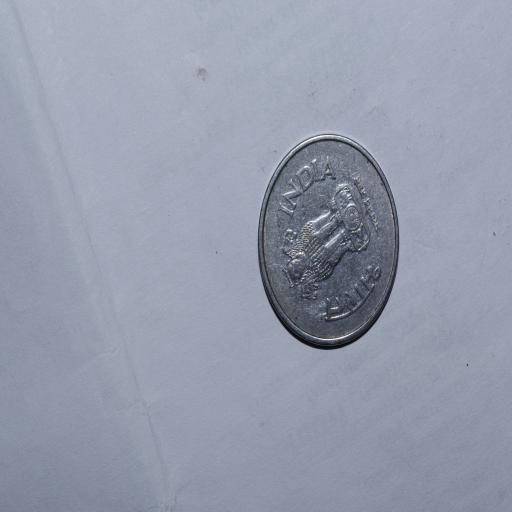rupee1: (255, 131, 398, 351)
